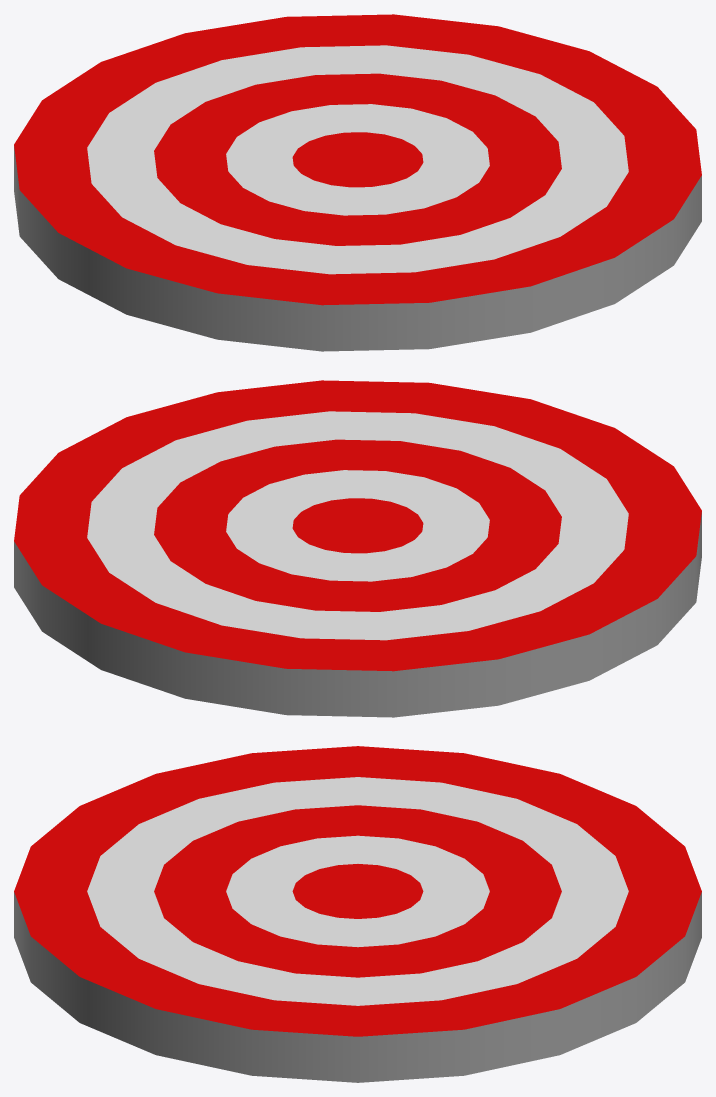
File: Bullseye.fbx
3 views of the same model, one above another, from view 1: azimuth 30°, elevation 25°; view 2: azimuth 150°, elevation 25°; view 3: azimuth 270°, elevation 25° (orthographic).
Visible parts, largest first — view 1: pCylinder1; view 2: pCylinder1; view 3: pCylinder1.
Boxes of the visible parts, x1=… form: pCylinder1: x1=14, y1=14, x2=701, y2=351; pCylinder1: x1=14, y1=380, x2=701, y2=717; pCylinder1: x1=14, y1=746, x2=701, y2=1082.
Bounding box in the file's own units: 17.85 × 1.32 × 17.85.
